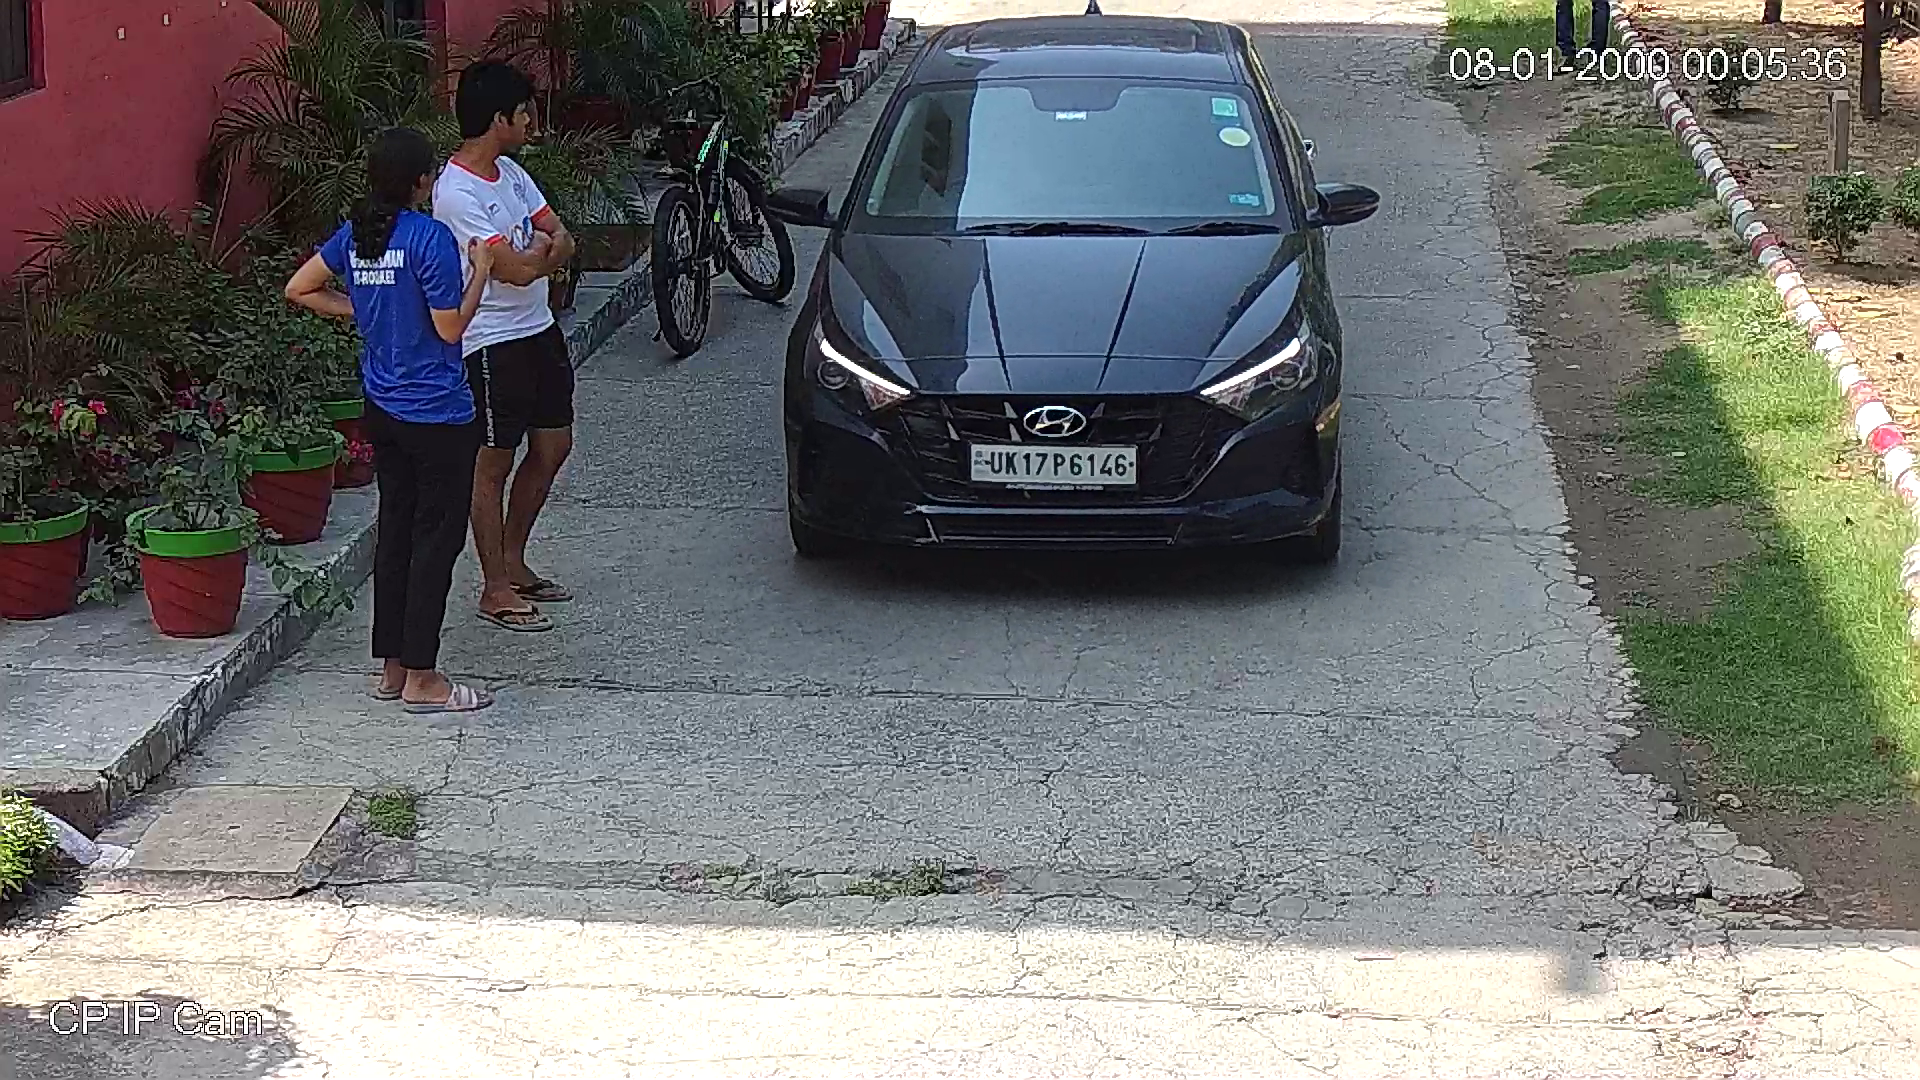plate: (966, 438, 1141, 491)
